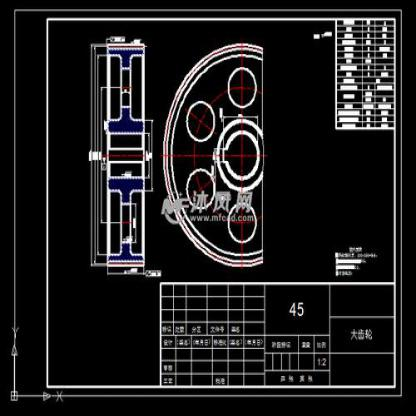FOD: (104, 40, 148, 268)
